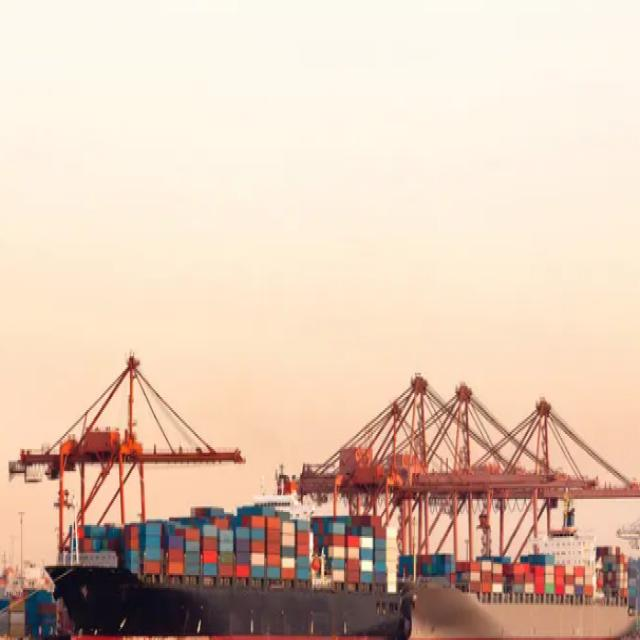cargoship: (58, 463, 417, 634)
